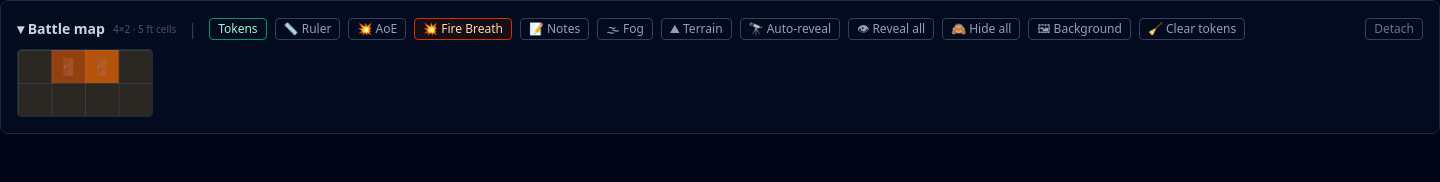
Scenario: BoardPanel AoE arm from the resolve action › offers the action template and arms the tool on click
Click the button with test id "arm-aoe".
click(463, 29)  # box x1=414 y1=18 x2=512 y2=40
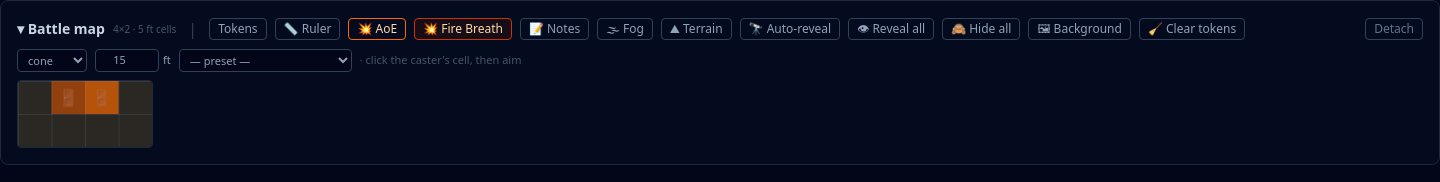
Now the dropdown named "AoE shape" shows "cone", box x1=17 y1=49 x2=87 y2=72
Now the number field named "AoE size in feet" holds "15", box x1=95 y1=49 x2=159 y2=72
